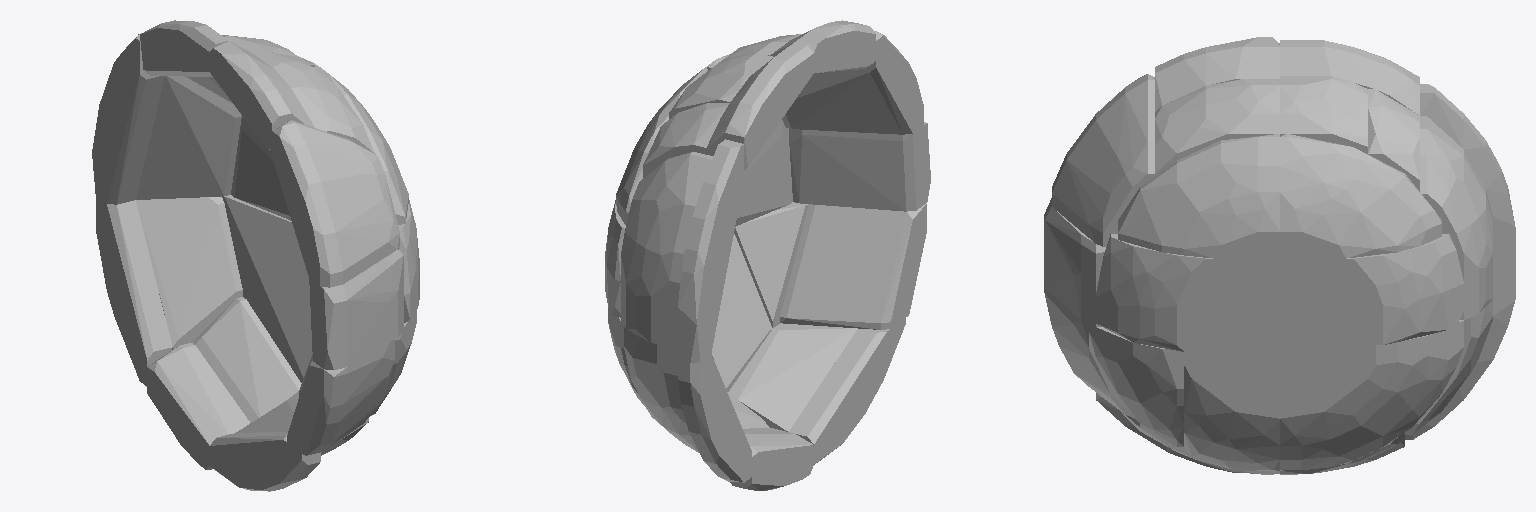
--- What the picture shows (computed from the rendered views, not written in the file) ---
3 views of the same robot in one strip: view 1: azimuth 30°, elevation 25°; view 2: azimuth 150°, elevation 25°; view 3: azimuth 270°, elevation 25° (orthographic).
Robot: root — 23 links, 22 joints (22 fixed); root link link_f44387d8cb8d2e4ebaedc225f2279ecf_convex_piece_0; default pose: all joints at 0.
Visible links, largest first — view 1: link_f44387d8cb8d2e4ebaedc225f2279ecf_convex_piece_11, link_f44387d8cb8d2e4ebaedc225f2279ecf_convex_piece_17, link_f44387d8cb8d2e4ebaedc225f2279ecf_convex_piece_20, link_f44387d8cb8d2e4ebaedc225f2279ecf_convex_piece_0, link_f44387d8cb8d2e4ebaedc225f2279ecf_convex_piece_10, link_f44387d8cb8d2e4ebaedc225f2279ecf_convex_piece_16, link_f44387d8cb8d2e4ebaedc225f2279ecf_convex_piece_19, link_f44387d8cb8d2e4ebaedc225f2279ecf_convex_piece_15, link_f44387d8cb8d2e4ebaedc225f2279ecf_convex_piece_14, link_f44387d8cb8d2e4ebaedc225f2279ecf_convex_piece_1, link_f44387d8cb8d2e4ebaedc225f2279ecf_convex_piece_12, link_f44387d8cb8d2e4ebaedc225f2279ecf_convex_piece_8 (+8 smaller); view 2: link_f44387d8cb8d2e4ebaedc225f2279ecf_convex_piece_1, link_f44387d8cb8d2e4ebaedc225f2279ecf_convex_piece_20, link_f44387d8cb8d2e4ebaedc225f2279ecf_convex_piece_10, link_f44387d8cb8d2e4ebaedc225f2279ecf_convex_piece_19, link_f44387d8cb8d2e4ebaedc225f2279ecf_convex_piece_11, link_f44387d8cb8d2e4ebaedc225f2279ecf_convex_piece_9, link_f44387d8cb8d2e4ebaedc225f2279ecf_convex_piece_8, link_f44387d8cb8d2e4ebaedc225f2279ecf_convex_piece_18, link_f44387d8cb8d2e4ebaedc225f2279ecf_convex_piece_16, link_f44387d8cb8d2e4ebaedc225f2279ecf_convex_piece_3, link_f44387d8cb8d2e4ebaedc225f2279ecf_convex_piece_2, link_f44387d8cb8d2e4ebaedc225f2279ecf_convex_piece_17 (+10 smaller); view 3: link_f44387d8cb8d2e4ebaedc225f2279ecf_convex_piece_0, link_f44387d8cb8d2e4ebaedc225f2279ecf_convex_piece_4, link_f44387d8cb8d2e4ebaedc225f2279ecf_convex_piece_6, link_f44387d8cb8d2e4ebaedc225f2279ecf_convex_piece_5, link_f44387d8cb8d2e4ebaedc225f2279ecf_convex_piece_7, link_f44387d8cb8d2e4ebaedc225f2279ecf_convex_piece_3, link_f44387d8cb8d2e4ebaedc225f2279ecf_convex_piece_11, link_f44387d8cb8d2e4ebaedc225f2279ecf_convex_piece_20, link_f44387d8cb8d2e4ebaedc225f2279ecf_convex_piece_13, link_f44387d8cb8d2e4ebaedc225f2279ecf_convex_piece_2, link_f44387d8cb8d2e4ebaedc225f2279ecf_convex_piece_21, link_f44387d8cb8d2e4ebaedc225f2279ecf_convex_piece_19 (+10 smaller).
Boxes of the visible links, x1,y1,x2,y2 form: link_f44387d8cb8d2e4ebaedc225f2279ecf_convex_piece_11: [272, 120, 399, 287]; link_f44387d8cb8d2e4ebaedc225f2279ecf_convex_piece_17: [136, 197, 242, 349]; link_f44387d8cb8d2e4ebaedc225f2279ecf_convex_piece_20: [136, 76, 241, 199]; link_f44387d8cb8d2e4ebaedc225f2279ecf_convex_piece_0: [222, 195, 312, 382]; link_f44387d8cb8d2e4ebaedc225f2279ecf_convex_piece_10: [309, 249, 403, 369]; link_f44387d8cb8d2e4ebaedc225f2279ecf_convex_piece_16: [96, 196, 172, 386]; link_f44387d8cb8d2e4ebaedc225f2279ecf_convex_piece_19: [92, 33, 164, 204]; link_f44387d8cb8d2e4ebaedc225f2279ecf_convex_piece_15: [192, 297, 301, 422]; link_f44387d8cb8d2e4ebaedc225f2279ecf_convex_piece_14: [147, 343, 249, 469]; link_f44387d8cb8d2e4ebaedc225f2279ecf_convex_piece_1: [287, 339, 394, 455]; link_f44387d8cb8d2e4ebaedc225f2279ecf_convex_piece_12: [210, 41, 314, 150]; link_f44387d8cb8d2e4ebaedc225f2279ecf_convex_piece_8: [210, 431, 320, 491]; link_f44387d8cb8d2e4ebaedc225f2279ecf_convex_piece_1: [780, 203, 926, 329]; link_f44387d8cb8d2e4ebaedc225f2279ecf_convex_piece_20: [621, 152, 712, 348]; link_f44387d8cb8d2e4ebaedc225f2279ecf_convex_piece_10: [789, 122, 930, 211]; link_f44387d8cb8d2e4ebaedc225f2279ecf_convex_piece_19: [678, 139, 743, 362]; link_f44387d8cb8d2e4ebaedc225f2279ecf_convex_piece_11: [782, 30, 923, 134]; link_f44387d8cb8d2e4ebaedc225f2279ecf_convex_piece_9: [728, 323, 857, 431]; link_f44387d8cb8d2e4ebaedc225f2279ecf_convex_piece_8: [789, 318, 905, 464]; link_f44387d8cb8d2e4ebaedc225f2279ecf_convex_piece_18: [706, 42, 813, 170]; link_f44387d8cb8d2e4ebaedc225f2279ecf_convex_piece_16: [678, 354, 751, 482]; link_f44387d8cb8d2e4ebaedc225f2279ecf_convex_piece_3: [712, 234, 772, 391]; link_f44387d8cb8d2e4ebaedc225f2279ecf_convex_piece_2: [734, 202, 808, 327]; link_f44387d8cb8d2e4ebaedc225f2279ecf_convex_piece_17: [624, 327, 698, 452]; link_f44387d8cb8d2e4ebaedc225f2279ecf_convex_piece_0: [1280, 320, 1463, 469]; link_f44387d8cb8d2e4ebaedc225f2279ecf_convex_piece_4: [1096, 234, 1279, 351]; link_f44387d8cb8d2e4ebaedc225f2279ecf_convex_piece_6: [1280, 234, 1463, 344]; link_f44387d8cb8d2e4ebaedc225f2279ecf_convex_piece_5: [1118, 134, 1279, 258]; link_f44387d8cb8d2e4ebaedc225f2279ecf_convex_piece_7: [1280, 134, 1441, 258]; link_f44387d8cb8d2e4ebaedc225f2279ecf_convex_piece_3: [1184, 352, 1279, 470]; link_f44387d8cb8d2e4ebaedc225f2279ecf_convex_piece_11: [1052, 74, 1154, 246]; link_f44387d8cb8d2e4ebaedc225f2279ecf_convex_piece_20: [1420, 116, 1492, 319]; link_f44387d8cb8d2e4ebaedc225f2279ecf_convex_piece_13: [1155, 79, 1279, 175]; link_f44387d8cb8d2e4ebaedc225f2279ecf_convex_piece_2: [1089, 324, 1183, 446]; link_f44387d8cb8d2e4ebaedc225f2279ecf_convex_piece_21: [1280, 76, 1367, 153]; link_f44387d8cb8d2e4ebaedc225f2279ecf_convex_piece_19: [1420, 84, 1515, 282].
Bounding box of the posed robot: 0.0171 × 0.0457 × 0.0457 m (x, y, z).
Meshes: 23 distinct files referenced, 23 mesh visuals loaded (23 OBJ).

robot.urdf — root:
<robot name="root">
  <link name="link_f44387d8cb8d2e4ebaedc225f2279ecf_convex_piece_0">
    <inertial>
      <origin rpy="0 0 0" xyz="0 0 0"/>
      <mass value="1.99E-07"/>
      <inertia ixx="3.20E-11" ixy="6.79E-12" ixz="-7.95E-12" iyy="2.31E-11" iyz="-1.15E-11" izz="1.96E-11"/>
    </inertial>
    <visual>
      <origin rpy="0 0 0" xyz="0 0 0"/>
      <geometry>
        <mesh filename="f44387d8cb8d2e4ebaedc225f2279ecf_convex_piece_0.obj" scale="1.0000E+00"/>
      </geometry>
      <material name="">
        <color rgba="7.50E-01 7.50E-01 7.50E-01 1"/>
      </material>
    </visual>
    <collision>
      <origin rpy="0 0 0" xyz="0 0 0"/>
      <geometry>
        <mesh filename="f44387d8cb8d2e4ebaedc225f2279ecf_convex_piece_0.obj" scale="1.0000E+00"/>
      </geometry>
    </collision>
  </link>
  <link name="link_f44387d8cb8d2e4ebaedc225f2279ecf_convex_piece_1">
    <inertial>
      <origin rpy="0 0 0" xyz="0 0 0"/>
      <mass value="1.19E-07"/>
      <inertia ixx="4.59E-11" ixy="8.22E-12" ixz="3.92E-12" iyy="1.20E-11" iyz="1.69E-11" izz="3.90E-11"/>
    </inertial>
    <visual>
      <origin rpy="0 0 0" xyz="0 0 0"/>
      <geometry>
        <mesh filename="f44387d8cb8d2e4ebaedc225f2279ecf_convex_piece_1.obj" scale="1.0000E+00"/>
      </geometry>
      <material name="">
        <color rgba="7.50E-01 7.50E-01 7.50E-01 1"/>
      </material>
    </visual>
    <collision>
      <origin rpy="0 0 0" xyz="0 0 0"/>
      <geometry>
        <mesh filename="f44387d8cb8d2e4ebaedc225f2279ecf_convex_piece_1.obj" scale="1.0000E+00"/>
      </geometry>
    </collision>
  </link>
  <joint name="link_f44387d8cb8d2e4ebaedc225f2279ecf_convex_piece_1_joint" type="fixed">
    <origin rpy="0 0 0" xyz="0 0 0"/>
    <parent link="link_f44387d8cb8d2e4ebaedc225f2279ecf_convex_piece_0"/>
    <child link="link_f44387d8cb8d2e4ebaedc225f2279ecf_convex_piece_1"/>
  </joint>
  <link name="link_f44387d8cb8d2e4ebaedc225f2279ecf_convex_piece_2">
    <inertial>
      <origin rpy="0 0 0" xyz="0 0 0"/>
      <mass value="6.56E-08"/>
      <inertia ixx="1.53E-11" ixy="-3.11E-12" ixz="-1.81E-12" iyy="5.65E-12" iyz="6.27E-12" izz="1.18E-11"/>
    </inertial>
    <visual>
      <origin rpy="0 0 0" xyz="0 0 0"/>
      <geometry>
        <mesh filename="f44387d8cb8d2e4ebaedc225f2279ecf_convex_piece_2.obj" scale="1.0000E+00"/>
      </geometry>
      <material name="">
        <color rgba="7.50E-01 7.50E-01 7.50E-01 1"/>
      </material>
    </visual>
    <collision>
      <origin rpy="0 0 0" xyz="0 0 0"/>
      <geometry>
        <mesh filename="f44387d8cb8d2e4ebaedc225f2279ecf_convex_piece_2.obj" scale="1.0000E+00"/>
      </geometry>
    </collision>
  </link>
  <joint name="link_f44387d8cb8d2e4ebaedc225f2279ecf_convex_piece_2_joint" type="fixed">
    <origin rpy="0 0 0" xyz="0 0 0"/>
    <parent link="link_f44387d8cb8d2e4ebaedc225f2279ecf_convex_piece_1"/>
    <child link="link_f44387d8cb8d2e4ebaedc225f2279ecf_convex_piece_2"/>
  </joint>
  <link name="link_f44387d8cb8d2e4ebaedc225f2279ecf_convex_piece_3">
    <inertial>
      <origin rpy="0 0 0" xyz="0 0 0"/>
      <mass value="1.17E-07"/>
      <inertia ixx="1.80E-11" ixy="-2.73E-12" ixz="-5.79E-12" iyy="1.83E-11" iyz="5.47E-12" izz="6.76E-12"/>
    </inertial>
    <visual>
      <origin rpy="0 0 0" xyz="0 0 0"/>
      <geometry>
        <mesh filename="f44387d8cb8d2e4ebaedc225f2279ecf_convex_piece_3.obj" scale="1.0000E+00"/>
      </geometry>
      <material name="">
        <color rgba="7.50E-01 7.50E-01 7.50E-01 1"/>
      </material>
    </visual>
    <collision>
      <origin rpy="0 0 0" xyz="0 0 0"/>
      <geometry>
        <mesh filename="f44387d8cb8d2e4ebaedc225f2279ecf_convex_piece_3.obj" scale="1.0000E+00"/>
      </geometry>
    </collision>
  </link>
  <joint name="link_f44387d8cb8d2e4ebaedc225f2279ecf_convex_piece_3_joint" type="fixed">
    <origin rpy="0 0 0" xyz="0 0 0"/>
    <parent link="link_f44387d8cb8d2e4ebaedc225f2279ecf_convex_piece_2"/>
    <child link="link_f44387d8cb8d2e4ebaedc225f2279ecf_convex_piece_3"/>
  </joint>
  <link name="link_f44387d8cb8d2e4ebaedc225f2279ecf_convex_piece_4">
    <inertial>
      <origin rpy="0 0 0" xyz="0 0 0"/>
      <mass value="1.32E-07"/>
      <inertia ixx="1.45E-11" ixy="-6.45E-12" ixz="1.74E-12" iyy="6.38E-12" iyz="-2.40E-12" izz="1.80E-11"/>
    </inertial>
    <visual>
      <origin rpy="0 0 0" xyz="0 0 0"/>
      <geometry>
        <mesh filename="f44387d8cb8d2e4ebaedc225f2279ecf_convex_piece_4.obj" scale="1.0000E+00"/>
      </geometry>
      <material name="">
        <color rgba="7.50E-01 7.50E-01 7.50E-01 1"/>
      </material>
    </visual>
    <collision>
      <origin rpy="0 0 0" xyz="0 0 0"/>
      <geometry>
        <mesh filename="f44387d8cb8d2e4ebaedc225f2279ecf_convex_piece_4.obj" scale="1.0000E+00"/>
      </geometry>
    </collision>
  </link>
  <joint name="link_f44387d8cb8d2e4ebaedc225f2279ecf_convex_piece_4_joint" type="fixed">
    <origin rpy="0 0 0" xyz="0 0 0"/>
    <parent link="link_f44387d8cb8d2e4ebaedc225f2279ecf_convex_piece_3"/>
    <child link="link_f44387d8cb8d2e4ebaedc225f2279ecf_convex_piece_4"/>
  </joint>
  <link name="link_f44387d8cb8d2e4ebaedc225f2279ecf_convex_piece_5">
    <inertial>
      <origin rpy="0 0 0" xyz="0 0 0"/>
      <mass value="9.23E-08"/>
      <inertia ixx="1.69E-11" ixy="-2.73E-12" ixz="5.25E-12" iyy="1.46E-11" iyz="-6.08E-12" izz="7.38E-12"/>
    </inertial>
    <visual>
      <origin rpy="0 0 0" xyz="0 0 0"/>
      <geometry>
        <mesh filename="f44387d8cb8d2e4ebaedc225f2279ecf_convex_piece_5.obj" scale="1.0000E+00"/>
      </geometry>
      <material name="">
        <color rgba="7.50E-01 7.50E-01 7.50E-01 1"/>
      </material>
    </visual>
    <collision>
      <origin rpy="0 0 0" xyz="0 0 0"/>
      <geometry>
        <mesh filename="f44387d8cb8d2e4ebaedc225f2279ecf_convex_piece_5.obj" scale="1.0000E+00"/>
      </geometry>
    </collision>
  </link>
  <joint name="link_f44387d8cb8d2e4ebaedc225f2279ecf_convex_piece_5_joint" type="fixed">
    <origin rpy="0 0 0" xyz="0 0 0"/>
    <parent link="link_f44387d8cb8d2e4ebaedc225f2279ecf_convex_piece_4"/>
    <child link="link_f44387d8cb8d2e4ebaedc225f2279ecf_convex_piece_5"/>
  </joint>
  <link name="link_f44387d8cb8d2e4ebaedc225f2279ecf_convex_piece_6">
    <inertial>
      <origin rpy="0 0 0" xyz="0 0 0"/>
      <mass value="1.23E-07"/>
      <inertia ixx="1.35E-11" ixy="6.05E-12" ixz="1.87E-12" iyy="5.98E-12" iyz="2.53E-12" izz="1.67E-11"/>
    </inertial>
    <visual>
      <origin rpy="0 0 0" xyz="0 0 0"/>
      <geometry>
        <mesh filename="f44387d8cb8d2e4ebaedc225f2279ecf_convex_piece_6.obj" scale="1.0000E+00"/>
      </geometry>
      <material name="">
        <color rgba="7.50E-01 7.50E-01 7.50E-01 1"/>
      </material>
    </visual>
    <collision>
      <origin rpy="0 0 0" xyz="0 0 0"/>
      <geometry>
        <mesh filename="f44387d8cb8d2e4ebaedc225f2279ecf_convex_piece_6.obj" scale="1.0000E+00"/>
      </geometry>
    </collision>
  </link>
  <joint name="link_f44387d8cb8d2e4ebaedc225f2279ecf_convex_piece_6_joint" type="fixed">
    <origin rpy="0 0 0" xyz="0 0 0"/>
    <parent link="link_f44387d8cb8d2e4ebaedc225f2279ecf_convex_piece_5"/>
    <child link="link_f44387d8cb8d2e4ebaedc225f2279ecf_convex_piece_6"/>
  </joint>
  <link name="link_f44387d8cb8d2e4ebaedc225f2279ecf_convex_piece_7">
    <inertial>
      <origin rpy="0 0 0" xyz="0 0 0"/>
      <mass value="9.18E-08"/>
      <inertia ixx="1.67E-11" ixy="2.77E-12" ixz="5.23E-12" iyy="1.45E-11" iyz="6.00E-12" izz="7.34E-12"/>
    </inertial>
    <visual>
      <origin rpy="0 0 0" xyz="0 0 0"/>
      <geometry>
        <mesh filename="f44387d8cb8d2e4ebaedc225f2279ecf_convex_piece_7.obj" scale="1.0000E+00"/>
      </geometry>
      <material name="">
        <color rgba="7.50E-01 7.50E-01 7.50E-01 1"/>
      </material>
    </visual>
    <collision>
      <origin rpy="0 0 0" xyz="0 0 0"/>
      <geometry>
        <mesh filename="f44387d8cb8d2e4ebaedc225f2279ecf_convex_piece_7.obj" scale="1.0000E+00"/>
      </geometry>
    </collision>
  </link>
  <joint name="link_f44387d8cb8d2e4ebaedc225f2279ecf_convex_piece_7_joint" type="fixed">
    <origin rpy="0 0 0" xyz="0 0 0"/>
    <parent link="link_f44387d8cb8d2e4ebaedc225f2279ecf_convex_piece_6"/>
    <child link="link_f44387d8cb8d2e4ebaedc225f2279ecf_convex_piece_7"/>
  </joint>
  <link name="link_f44387d8cb8d2e4ebaedc225f2279ecf_convex_piece_8">
    <inertial>
      <origin rpy="0 0 0" xyz="0 0 0"/>
      <mass value="5.23E-08"/>
      <inertia ixx="2.26E-11" ixy="3.26E-12" ixz="7.01E-12" iyy="2.05E-11" iyz="7.72E-12" izz="7.62E-12"/>
    </inertial>
    <visual>
      <origin rpy="0 0 0" xyz="0 0 0"/>
      <geometry>
        <mesh filename="f44387d8cb8d2e4ebaedc225f2279ecf_convex_piece_8.obj" scale="1.0000E+00"/>
      </geometry>
      <material name="">
        <color rgba="7.50E-01 7.50E-01 7.50E-01 1"/>
      </material>
    </visual>
    <collision>
      <origin rpy="0 0 0" xyz="0 0 0"/>
      <geometry>
        <mesh filename="f44387d8cb8d2e4ebaedc225f2279ecf_convex_piece_8.obj" scale="1.0000E+00"/>
      </geometry>
    </collision>
  </link>
  <joint name="link_f44387d8cb8d2e4ebaedc225f2279ecf_convex_piece_8_joint" type="fixed">
    <origin rpy="0 0 0" xyz="0 0 0"/>
    <parent link="link_f44387d8cb8d2e4ebaedc225f2279ecf_convex_piece_7"/>
    <child link="link_f44387d8cb8d2e4ebaedc225f2279ecf_convex_piece_8"/>
  </joint>
  <link name="link_f44387d8cb8d2e4ebaedc225f2279ecf_convex_piece_9">
    <inertial>
      <origin rpy="0 0 0" xyz="0 0 0"/>
      <mass value="8.57E-08"/>
      <inertia ixx="3.10E-11" ixy="1.53E-12" ixz="3.50E-12" iyy="2.59E-11" iyz="1.02E-11" izz="6.53E-12"/>
    </inertial>
    <visual>
      <origin rpy="0 0 0" xyz="0 0 0"/>
      <geometry>
        <mesh filename="f44387d8cb8d2e4ebaedc225f2279ecf_convex_piece_9.obj" scale="1.0000E+00"/>
      </geometry>
      <material name="">
        <color rgba="7.50E-01 7.50E-01 7.50E-01 1"/>
      </material>
    </visual>
    <collision>
      <origin rpy="0 0 0" xyz="0 0 0"/>
      <geometry>
        <mesh filename="f44387d8cb8d2e4ebaedc225f2279ecf_convex_piece_9.obj" scale="1.0000E+00"/>
      </geometry>
    </collision>
  </link>
  <joint name="link_f44387d8cb8d2e4ebaedc225f2279ecf_convex_piece_9_joint" type="fixed">
    <origin rpy="0 0 0" xyz="0 0 0"/>
    <parent link="link_f44387d8cb8d2e4ebaedc225f2279ecf_convex_piece_8"/>
    <child link="link_f44387d8cb8d2e4ebaedc225f2279ecf_convex_piece_9"/>
  </joint>
  <link name="link_f44387d8cb8d2e4ebaedc225f2279ecf_convex_piece_10">
    <inertial>
      <origin rpy="0 0 0" xyz="0 0 0"/>
      <mass value="8.88E-08"/>
      <inertia ixx="3.33E-11" ixy="5.66E-12" ixz="-3.29E-13" iyy="2.31E-12" iyz="-2.57E-12" izz="3.44E-11"/>
    </inertial>
    <visual>
      <origin rpy="0 0 0" xyz="0 0 0"/>
      <geometry>
        <mesh filename="f44387d8cb8d2e4ebaedc225f2279ecf_convex_piece_10.obj" scale="1.0000E+00"/>
      </geometry>
      <material name="">
        <color rgba="7.50E-01 7.50E-01 7.50E-01 1"/>
      </material>
    </visual>
    <collision>
      <origin rpy="0 0 0" xyz="0 0 0"/>
      <geometry>
        <mesh filename="f44387d8cb8d2e4ebaedc225f2279ecf_convex_piece_10.obj" scale="1.0000E+00"/>
      </geometry>
    </collision>
  </link>
  <joint name="link_f44387d8cb8d2e4ebaedc225f2279ecf_convex_piece_10_joint" type="fixed">
    <origin rpy="0 0 0" xyz="0 0 0"/>
    <parent link="link_f44387d8cb8d2e4ebaedc225f2279ecf_convex_piece_9"/>
    <child link="link_f44387d8cb8d2e4ebaedc225f2279ecf_convex_piece_10"/>
  </joint>
  <link name="link_f44387d8cb8d2e4ebaedc225f2279ecf_convex_piece_11">
    <inertial>
      <origin rpy="0 0 0" xyz="0 0 0"/>
      <mass value="1.31E-07"/>
      <inertia ixx="5.15E-11" ixy="8.14E-12" ixz="-5.59E-12" iyy="2.01E-11" iyz="-2.27E-11" izz="3.73E-11"/>
    </inertial>
    <visual>
      <origin rpy="0 0 0" xyz="0 0 0"/>
      <geometry>
        <mesh filename="f44387d8cb8d2e4ebaedc225f2279ecf_convex_piece_11.obj" scale="1.0000E+00"/>
      </geometry>
      <material name="">
        <color rgba="7.50E-01 7.50E-01 7.50E-01 1"/>
      </material>
    </visual>
    <collision>
      <origin rpy="0 0 0" xyz="0 0 0"/>
      <geometry>
        <mesh filename="f44387d8cb8d2e4ebaedc225f2279ecf_convex_piece_11.obj" scale="1.0000E+00"/>
      </geometry>
    </collision>
  </link>
  <joint name="link_f44387d8cb8d2e4ebaedc225f2279ecf_convex_piece_11_joint" type="fixed">
    <origin rpy="0 0 0" xyz="0 0 0"/>
    <parent link="link_f44387d8cb8d2e4ebaedc225f2279ecf_convex_piece_10"/>
    <child link="link_f44387d8cb8d2e4ebaedc225f2279ecf_convex_piece_11"/>
  </joint>
  <link name="link_f44387d8cb8d2e4ebaedc225f2279ecf_convex_piece_12">
    <inertial>
      <origin rpy="0 0 0" xyz="0 0 0"/>
      <mass value="5.72E-08"/>
      <inertia ixx="2.44E-11" ixy="2.31E-12" ixz="-6.90E-12" iyy="2.37E-11" iyz="-6.88E-12" izz="5.29E-12"/>
    </inertial>
    <visual>
      <origin rpy="0 0 0" xyz="0 0 0"/>
      <geometry>
        <mesh filename="f44387d8cb8d2e4ebaedc225f2279ecf_convex_piece_12.obj" scale="1.0000E+00"/>
      </geometry>
      <material name="">
        <color rgba="7.50E-01 7.50E-01 7.50E-01 1"/>
      </material>
    </visual>
    <collision>
      <origin rpy="0 0 0" xyz="0 0 0"/>
      <geometry>
        <mesh filename="f44387d8cb8d2e4ebaedc225f2279ecf_convex_piece_12.obj" scale="1.0000E+00"/>
      </geometry>
    </collision>
  </link>
  <joint name="link_f44387d8cb8d2e4ebaedc225f2279ecf_convex_piece_12_joint" type="fixed">
    <origin rpy="0 0 0" xyz="0 0 0"/>
    <parent link="link_f44387d8cb8d2e4ebaedc225f2279ecf_convex_piece_11"/>
    <child link="link_f44387d8cb8d2e4ebaedc225f2279ecf_convex_piece_12"/>
  </joint>
  <link name="link_f44387d8cb8d2e4ebaedc225f2279ecf_convex_piece_13">
    <inertial>
      <origin rpy="0 0 0" xyz="0 0 0"/>
      <mass value="7.49E-08"/>
      <inertia ixx="2.45E-11" ixy="1.41E-13" ixz="-3.75E-13" iyy="2.08E-11" iyz="-7.61E-12" izz="4.04E-12"/>
    </inertial>
    <visual>
      <origin rpy="0 0 0" xyz="0 0 0"/>
      <geometry>
        <mesh filename="f44387d8cb8d2e4ebaedc225f2279ecf_convex_piece_13.obj" scale="1.0000E+00"/>
      </geometry>
      <material name="">
        <color rgba="7.50E-01 7.50E-01 7.50E-01 1"/>
      </material>
    </visual>
    <collision>
      <origin rpy="0 0 0" xyz="0 0 0"/>
      <geometry>
        <mesh filename="f44387d8cb8d2e4ebaedc225f2279ecf_convex_piece_13.obj" scale="1.0000E+00"/>
      </geometry>
    </collision>
  </link>
  <joint name="link_f44387d8cb8d2e4ebaedc225f2279ecf_convex_piece_13_joint" type="fixed">
    <origin rpy="0 0 0" xyz="0 0 0"/>
    <parent link="link_f44387d8cb8d2e4ebaedc225f2279ecf_convex_piece_12"/>
    <child link="link_f44387d8cb8d2e4ebaedc225f2279ecf_convex_piece_13"/>
  </joint>
  <link name="link_f44387d8cb8d2e4ebaedc225f2279ecf_convex_piece_14">
    <inertial>
      <origin rpy="0 0 0" xyz="0 0 0"/>
      <mass value="5.72E-08"/>
      <inertia ixx="2.44E-11" ixy="-2.27E-12" ixz="7.01E-12" iyy="2.37E-11" iyz="-6.87E-12" izz="5.28E-12"/>
    </inertial>
    <visual>
      <origin rpy="0 0 0" xyz="0 0 0"/>
      <geometry>
        <mesh filename="f44387d8cb8d2e4ebaedc225f2279ecf_convex_piece_14.obj" scale="1.0000E+00"/>
      </geometry>
      <material name="">
        <color rgba="7.50E-01 7.50E-01 7.50E-01 1"/>
      </material>
    </visual>
    <collision>
      <origin rpy="0 0 0" xyz="0 0 0"/>
      <geometry>
        <mesh filename="f44387d8cb8d2e4ebaedc225f2279ecf_convex_piece_14.obj" scale="1.0000E+00"/>
      </geometry>
    </collision>
  </link>
  <joint name="link_f44387d8cb8d2e4ebaedc225f2279ecf_convex_piece_14_joint" type="fixed">
    <origin rpy="0 0 0" xyz="0 0 0"/>
    <parent link="link_f44387d8cb8d2e4ebaedc225f2279ecf_convex_piece_13"/>
    <child link="link_f44387d8cb8d2e4ebaedc225f2279ecf_convex_piece_14"/>
  </joint>
  <link name="link_f44387d8cb8d2e4ebaedc225f2279ecf_convex_piece_15">
    <inertial>
      <origin rpy="0 0 0" xyz="0 0 0"/>
      <mass value="6.25E-08"/>
      <inertia ixx="2.11E-11" ixy="-2.48E-13" ixz="8.44E-13" iyy="1.81E-11" iyz="-6.50E-12" izz="3.36E-12"/>
    </inertial>
    <visual>
      <origin rpy="0 0 0" xyz="0 0 0"/>
      <geometry>
        <mesh filename="f44387d8cb8d2e4ebaedc225f2279ecf_convex_piece_15.obj" scale="1.0000E+00"/>
      </geometry>
      <material name="">
        <color rgba="7.50E-01 7.50E-01 7.50E-01 1"/>
      </material>
    </visual>
    <collision>
      <origin rpy="0 0 0" xyz="0 0 0"/>
      <geometry>
        <mesh filename="f44387d8cb8d2e4ebaedc225f2279ecf_convex_piece_15.obj" scale="1.0000E+00"/>
      </geometry>
    </collision>
  </link>
  <joint name="link_f44387d8cb8d2e4ebaedc225f2279ecf_convex_piece_15_joint" type="fixed">
    <origin rpy="0 0 0" xyz="0 0 0"/>
    <parent link="link_f44387d8cb8d2e4ebaedc225f2279ecf_convex_piece_14"/>
    <child link="link_f44387d8cb8d2e4ebaedc225f2279ecf_convex_piece_15"/>
  </joint>
  <link name="link_f44387d8cb8d2e4ebaedc225f2279ecf_convex_piece_16">
    <inertial>
      <origin rpy="0 0 0" xyz="0 0 0"/>
      <mass value="5.10E-08"/>
      <inertia ixx="2.22E-11" ixy="-6.47E-12" ixz="3.84E-12" iyy="8.90E-12" iyz="-8.66E-12" izz="1.86E-11"/>
    </inertial>
    <visual>
      <origin rpy="0 0 0" xyz="0 0 0"/>
      <geometry>
        <mesh filename="f44387d8cb8d2e4ebaedc225f2279ecf_convex_piece_16.obj" scale="1.0000E+00"/>
      </geometry>
      <material name="">
        <color rgba="7.50E-01 7.50E-01 7.50E-01 1"/>
      </material>
    </visual>
    <collision>
      <origin rpy="0 0 0" xyz="0 0 0"/>
      <geometry>
        <mesh filename="f44387d8cb8d2e4ebaedc225f2279ecf_convex_piece_16.obj" scale="1.0000E+00"/>
      </geometry>
    </collision>
  </link>
  <joint name="link_f44387d8cb8d2e4ebaedc225f2279ecf_convex_piece_16_joint" type="fixed">
    <origin rpy="0 0 0" xyz="0 0 0"/>
    <parent link="link_f44387d8cb8d2e4ebaedc225f2279ecf_convex_piece_15"/>
    <child link="link_f44387d8cb8d2e4ebaedc225f2279ecf_convex_piece_16"/>
  </joint>
  <link name="link_f44387d8cb8d2e4ebaedc225f2279ecf_convex_piece_17">
    <inertial>
      <origin rpy="0 0 0" xyz="0 0 0"/>
      <mass value="9.48E-08"/>
      <inertia ixx="3.38E-11" ixy="-3.07E-12" ixz="1.86E-12" iyy="9.36E-12" iyz="-1.31E-11" izz="2.60E-11"/>
    </inertial>
    <visual>
      <origin rpy="0 0 0" xyz="0 0 0"/>
      <geometry>
        <mesh filename="f44387d8cb8d2e4ebaedc225f2279ecf_convex_piece_17.obj" scale="1.0000E+00"/>
      </geometry>
      <material name="">
        <color rgba="7.50E-01 7.50E-01 7.50E-01 1"/>
      </material>
    </visual>
    <collision>
      <origin rpy="0 0 0" xyz="0 0 0"/>
      <geometry>
        <mesh filename="f44387d8cb8d2e4ebaedc225f2279ecf_convex_piece_17.obj" scale="1.0000E+00"/>
      </geometry>
    </collision>
  </link>
  <joint name="link_f44387d8cb8d2e4ebaedc225f2279ecf_convex_piece_17_joint" type="fixed">
    <origin rpy="0 0 0" xyz="0 0 0"/>
    <parent link="link_f44387d8cb8d2e4ebaedc225f2279ecf_convex_piece_16"/>
    <child link="link_f44387d8cb8d2e4ebaedc225f2279ecf_convex_piece_17"/>
  </joint>
  <link name="link_f44387d8cb8d2e4ebaedc225f2279ecf_convex_piece_18">
    <inertial>
      <origin rpy="0 0 0" xyz="0 0 0"/>
      <mass value="5.92E-08"/>
      <inertia ixx="2.51E-11" ixy="-2.77E-12" ixz="-7.38E-12" iyy="2.40E-11" iyz="7.66E-12" izz="6.43E-12"/>
    </inertial>
    <visual>
      <origin rpy="0 0 0" xyz="0 0 0"/>
      <geometry>
        <mesh filename="f44387d8cb8d2e4ebaedc225f2279ecf_convex_piece_18.obj" scale="1.0000E+00"/>
      </geometry>
      <material name="">
        <color rgba="7.50E-01 7.50E-01 7.50E-01 1"/>
      </material>
    </visual>
    <collision>
      <origin rpy="0 0 0" xyz="0 0 0"/>
      <geometry>
        <mesh filename="f44387d8cb8d2e4ebaedc225f2279ecf_convex_piece_18.obj" scale="1.0000E+00"/>
      </geometry>
    </collision>
  </link>
  <joint name="link_f44387d8cb8d2e4ebaedc225f2279ecf_convex_piece_18_joint" type="fixed">
    <origin rpy="0 0 0" xyz="0 0 0"/>
    <parent link="link_f44387d8cb8d2e4ebaedc225f2279ecf_convex_piece_17"/>
    <child link="link_f44387d8cb8d2e4ebaedc225f2279ecf_convex_piece_18"/>
  </joint>
  <link name="link_f44387d8cb8d2e4ebaedc225f2279ecf_convex_piece_19">
    <inertial>
      <origin rpy="0 0 0" xyz="0 0 0"/>
      <mass value="6.11E-08"/>
      <inertia ixx="2.61E-11" ixy="-8.17E-12" ixz="-3.28E-12" iyy="8.17E-12" iyz="7.92E-12" izz="2.43E-11"/>
    </inertial>
    <visual>
      <origin rpy="0 0 0" xyz="0 0 0"/>
      <geometry>
        <mesh filename="f44387d8cb8d2e4ebaedc225f2279ecf_convex_piece_19.obj" scale="1.0000E+00"/>
      </geometry>
      <material name="">
        <color rgba="7.50E-01 7.50E-01 7.50E-01 1"/>
      </material>
    </visual>
    <collision>
      <origin rpy="0 0 0" xyz="0 0 0"/>
      <geometry>
        <mesh filename="f44387d8cb8d2e4ebaedc225f2279ecf_convex_piece_19.obj" scale="1.0000E+00"/>
      </geometry>
    </collision>
  </link>
  <joint name="link_f44387d8cb8d2e4ebaedc225f2279ecf_convex_piece_19_joint" type="fixed">
    <origin rpy="0 0 0" xyz="0 0 0"/>
    <parent link="link_f44387d8cb8d2e4ebaedc225f2279ecf_convex_piece_18"/>
    <child link="link_f44387d8cb8d2e4ebaedc225f2279ecf_convex_piece_19"/>
  </joint>
  <link name="link_f44387d8cb8d2e4ebaedc225f2279ecf_convex_piece_20">
    <inertial>
      <origin rpy="0 0 0" xyz="0 0 0"/>
      <mass value="1.25E-07"/>
      <inertia ixx="4.30E-11" ixy="-3.69E-12" ixz="-1.35E-12" iyy="7.43E-12" iyz="1.18E-11" izz="3.74E-11"/>
    </inertial>
    <visual>
      <origin rpy="0 0 0" xyz="0 0 0"/>
      <geometry>
        <mesh filename="f44387d8cb8d2e4ebaedc225f2279ecf_convex_piece_20.obj" scale="1.0000E+00"/>
      </geometry>
      <material name="">
        <color rgba="7.50E-01 7.50E-01 7.50E-01 1"/>
      </material>
    </visual>
    <collision>
      <origin rpy="0 0 0" xyz="0 0 0"/>
      <geometry>
        <mesh filename="f44387d8cb8d2e4ebaedc225f2279ecf_convex_piece_20.obj" scale="1.0000E+00"/>
      </geometry>
    </collision>
  </link>
  <joint name="link_f44387d8cb8d2e4ebaedc225f2279ecf_convex_piece_20_joint" type="fixed">
    <origin rpy="0 0 0" xyz="0 0 0"/>
    <parent link="link_f44387d8cb8d2e4ebaedc225f2279ecf_convex_piece_19"/>
    <child link="link_f44387d8cb8d2e4ebaedc225f2279ecf_convex_piece_20"/>
  </joint>
  <link name="link_f44387d8cb8d2e4ebaedc225f2279ecf_convex_piece_21">
    <inertial>
      <origin rpy="0 0 0" xyz="0 0 0"/>
      <mass value="4.79E-08"/>
      <inertia ixx="1.62E-11" ixy="-1.12E-13" ixz="-5.33E-13" iyy="1.52E-11" iyz="3.68E-12" izz="1.38E-12"/>
    </inertial>
    <visual>
      <origin rpy="0 0 0" xyz="0 0 0"/>
      <geometry>
        <mesh filename="f44387d8cb8d2e4ebaedc225f2279ecf_convex_piece_21.obj" scale="1.0000E+00"/>
      </geometry>
      <material name="">
        <color rgba="7.50E-01 7.50E-01 7.50E-01 1"/>
      </material>
    </visual>
    <collision>
      <origin rpy="0 0 0" xyz="0 0 0"/>
      <geometry>
        <mesh filename="f44387d8cb8d2e4ebaedc225f2279ecf_convex_piece_21.obj" scale="1.0000E+00"/>
      </geometry>
    </collision>
  </link>
  <joint name="link_f44387d8cb8d2e4ebaedc225f2279ecf_convex_piece_21_joint" type="fixed">
    <origin rpy="0 0 0" xyz="0 0 0"/>
    <parent link="link_f44387d8cb8d2e4ebaedc225f2279ecf_convex_piece_20"/>
    <child link="link_f44387d8cb8d2e4ebaedc225f2279ecf_convex_piece_21"/>
  </joint>
  <link name="link_f44387d8cb8d2e4ebaedc225f2279ecf_convex_piece_22">
    <inertial>
      <origin rpy="0 0 0" xyz="0 0 0"/>
      <mass value="3.70E-08"/>
      <inertia ixx="1.26E-11" ixy="-2.25E-13" ixz="-3.55E-13" iyy="7.98E-12" iyz="5.93E-12" izz="4.83E-12"/>
    </inertial>
    <visual>
      <origin rpy="0 0 0" xyz="0 0 0"/>
      <geometry>
        <mesh filename="f44387d8cb8d2e4ebaedc225f2279ecf_convex_piece_22.obj" scale="1.0000E+00"/>
      </geometry>
      <material name="">
        <color rgba="7.50E-01 7.50E-01 7.50E-01 1"/>
      </material>
    </visual>
    <collision>
      <origin rpy="0 0 0" xyz="0 0 0"/>
      <geometry>
        <mesh filename="f44387d8cb8d2e4ebaedc225f2279ecf_convex_piece_22.obj" scale="1.0000E+00"/>
      </geometry>
    </collision>
  </link>
  <joint name="link_f44387d8cb8d2e4ebaedc225f2279ecf_convex_piece_22_joint" type="fixed">
    <origin rpy="0 0 0" xyz="0 0 0"/>
    <parent link="link_f44387d8cb8d2e4ebaedc225f2279ecf_convex_piece_21"/>
    <child link="link_f44387d8cb8d2e4ebaedc225f2279ecf_convex_piece_22"/>
  </joint>
</robot>
